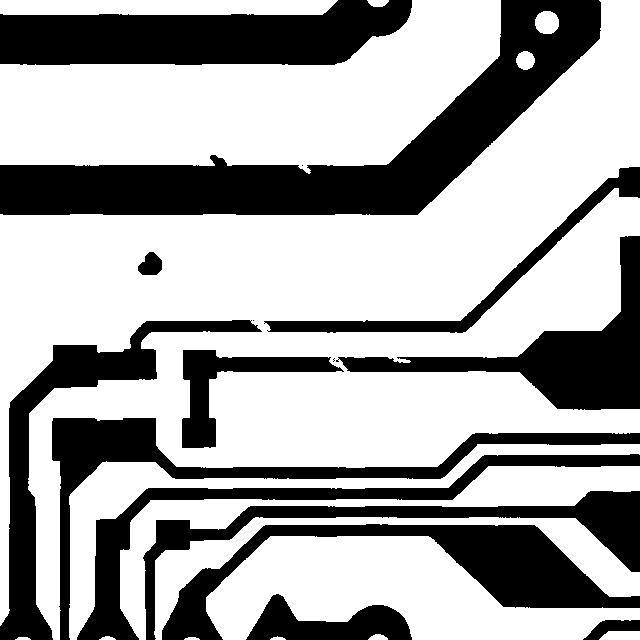copper: (128, 242, 171, 284)
mousebite: (378, 344, 420, 372), (288, 155, 320, 183)
open: (317, 339, 363, 385), (232, 301, 280, 342)
pin-hole: (506, 41, 544, 79)
spur: (200, 145, 236, 178)
